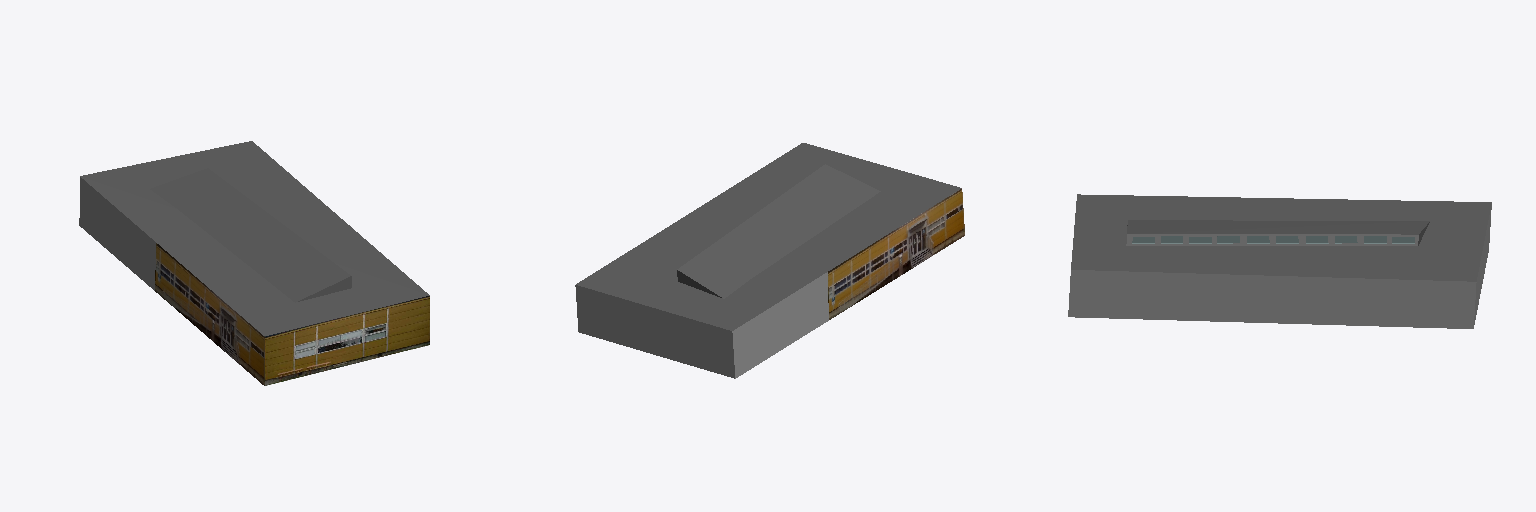
The picture shows the model from 3 angles: view 1: azimuth 30°, elevation 25°; view 2: azimuth 150°, elevation 25°; view 3: azimuth 270°, elevation 25°; orthographic projection.
Parts seen in each view (by area): view 1: SketchUp.002_ID42, SketchUp_ID21, SketchUp.005_ID74, SketchUp.006_ID87, SketchUp.003_ID48; view 2: SketchUp.002_ID42, SketchUp_ID21, SketchUp.004_ID61, SketchUp.006_ID87, SketchUp.003_ID48; view 3: SketchUp.002_ID42, SketchUp.007_ID100, SketchUp_ID21, SketchUp.001_ID29.
Part boxes in pixels (bbox=[...]): SketchUp.002_ID42: bbox=[80, 141, 429, 335]; SketchUp_ID21: bbox=[150, 168, 351, 302]; SketchUp.005_ID74: bbox=[265, 296, 429, 385]; SketchUp.006_ID87: bbox=[155, 243, 264, 385]; SketchUp.003_ID48: bbox=[79, 177, 155, 290]; SketchUp.002_ID42: bbox=[576, 143, 960, 330]; SketchUp_ID21: bbox=[677, 164, 880, 298]; SketchUp.004_ID61: bbox=[575, 285, 734, 378]; SketchUp.006_ID87: bbox=[828, 188, 964, 319]; SketchUp.003_ID48: bbox=[732, 272, 828, 378]; SketchUp.002_ID42: bbox=[1071, 194, 1491, 281]; SketchUp.007_ID100: bbox=[1068, 270, 1476, 328]; SketchUp_ID21: bbox=[1127, 220, 1429, 245]; SketchUp.001_ID29: bbox=[1126, 234, 1418, 245].
Bounding box in the file's own units: 16.32 × 5.28 × 31.76.
Materials: 8 (2 with a texture image).